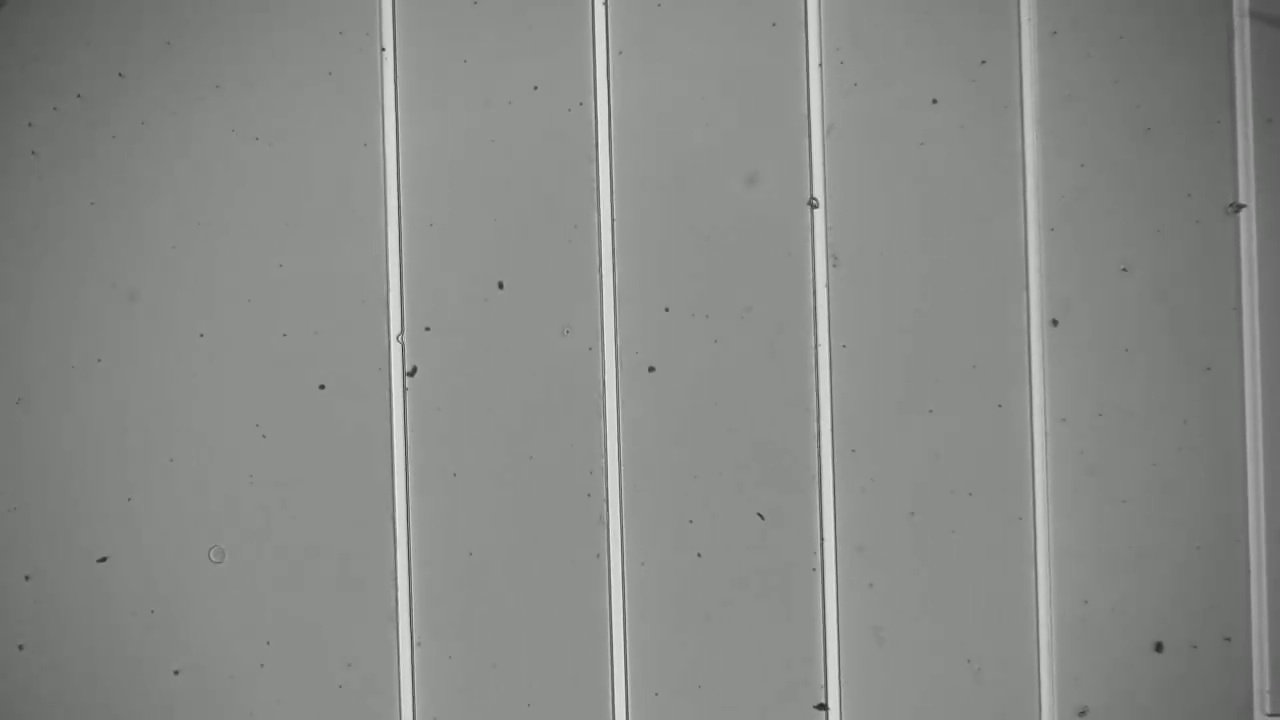edge_bite: (378, 326, 410, 352)
stains_enbedded: (1221, 192, 1264, 227), (798, 190, 833, 216)
